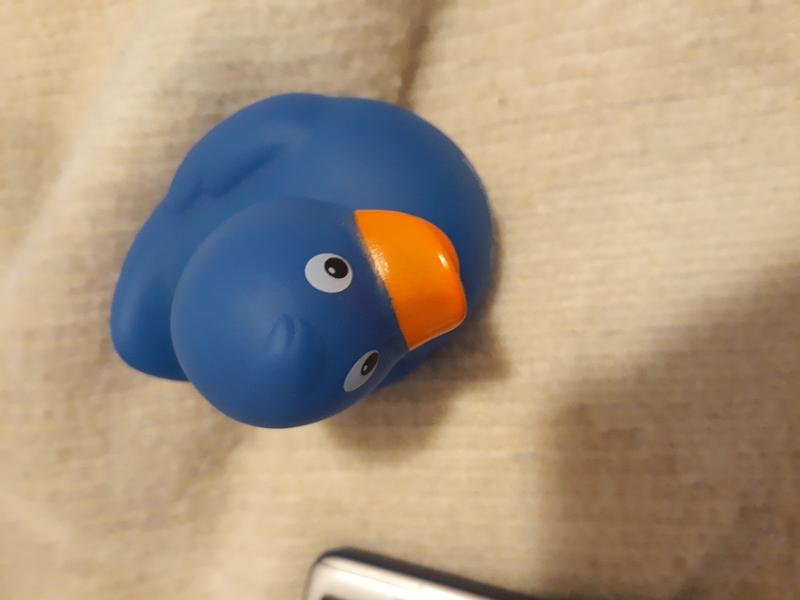plava_patkica: (95, 72, 510, 445)
